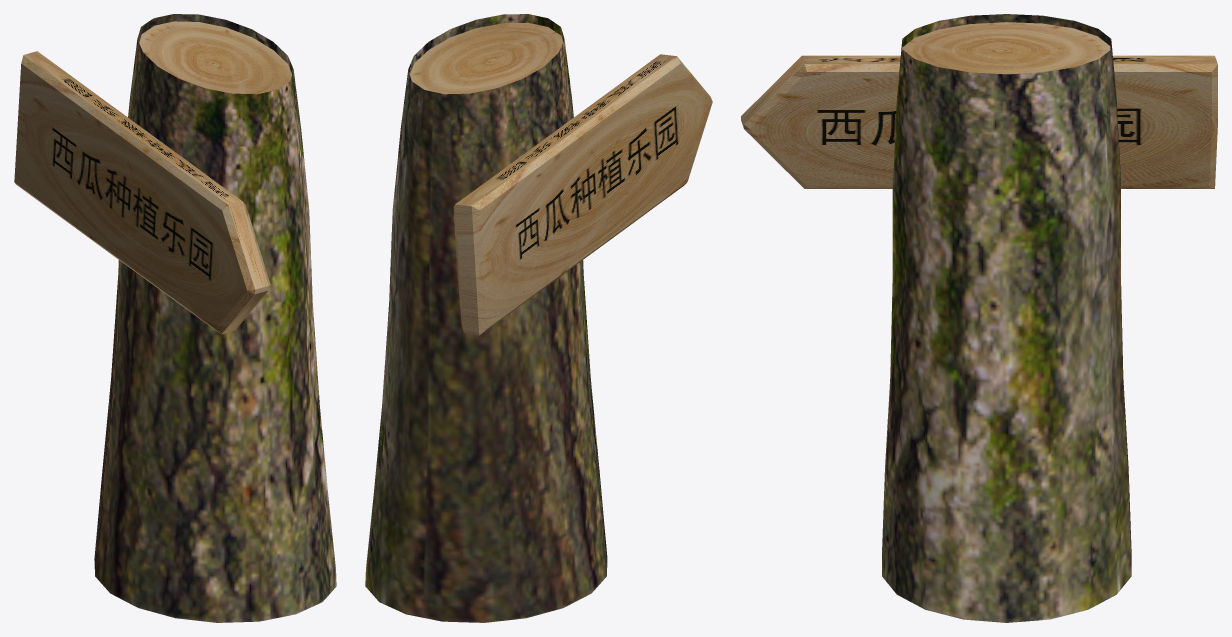
Rendered from guide.FBX.
3 views of the same model, side by side, from view 1: azimuth 30°, elevation 25°; view 2: azimuth 150°, elevation 25°; view 3: azimuth 270°, elevation 25° (orthographic).
Visible parts, largest first — view 1: Cylinder001, Box001, guide; view 2: Cylinder001, Box001, guide; view 3: Cylinder001, Box001, guide.
Part boxes in pixels (x1,y1,x2,y2): Cylinder001: (94, 14, 336, 622); Box001: (14, 51, 270, 334); guide: (139, 21, 291, 94); Cylinder001: (365, 14, 607, 622); Box001: (453, 54, 712, 335); guide: (409, 22, 562, 94); Cylinder001: (882, 14, 1131, 622); Box001: (741, 55, 1217, 188); guide: (902, 22, 1110, 74).
Bounding box in the file's own units: 8.14 × 19.39 × 15.84.
